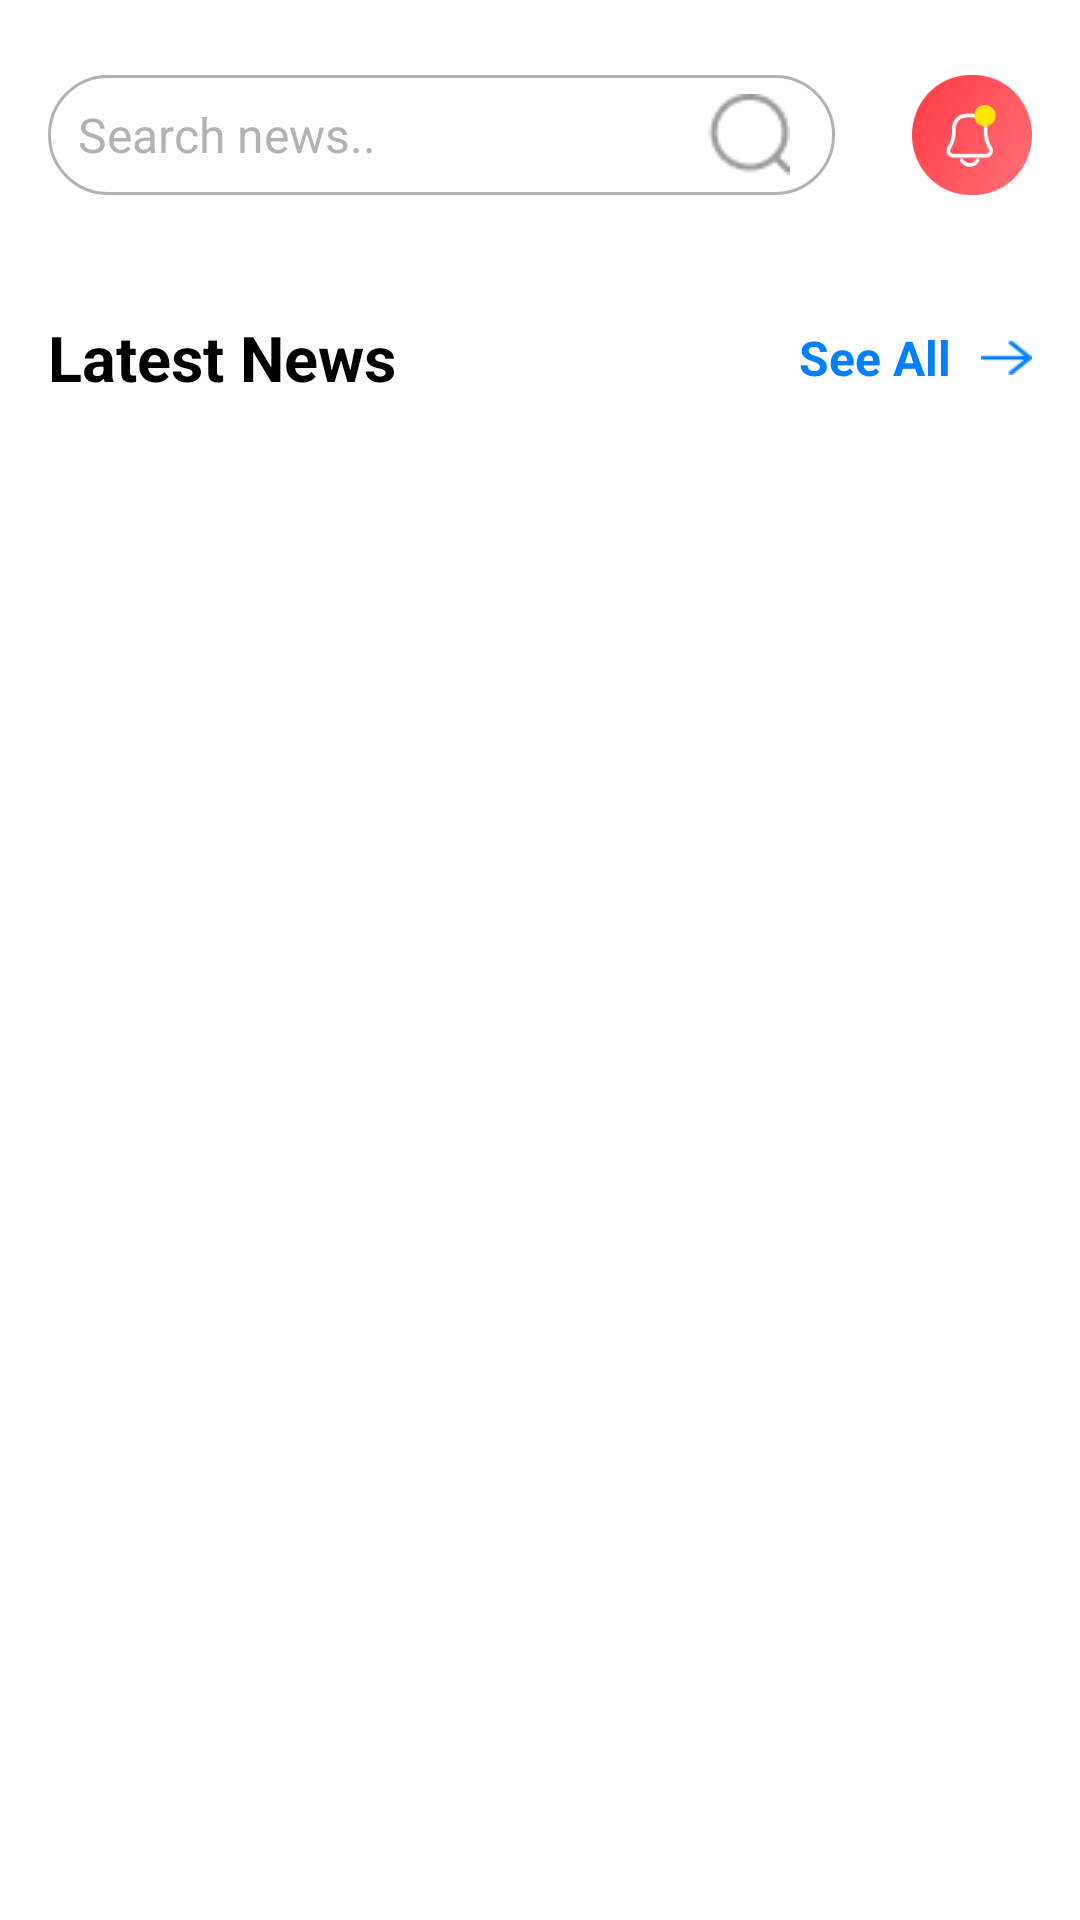

Named icons in this screenshot (1080 x 1920) and their centers, [x,y]:
arrow right: [1006,357]
notification: [972,135]
